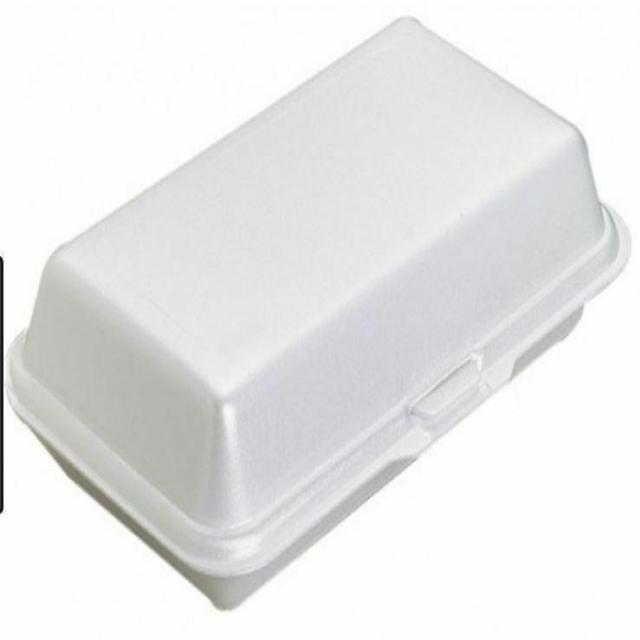styrofoam: (4, 12, 632, 611)
